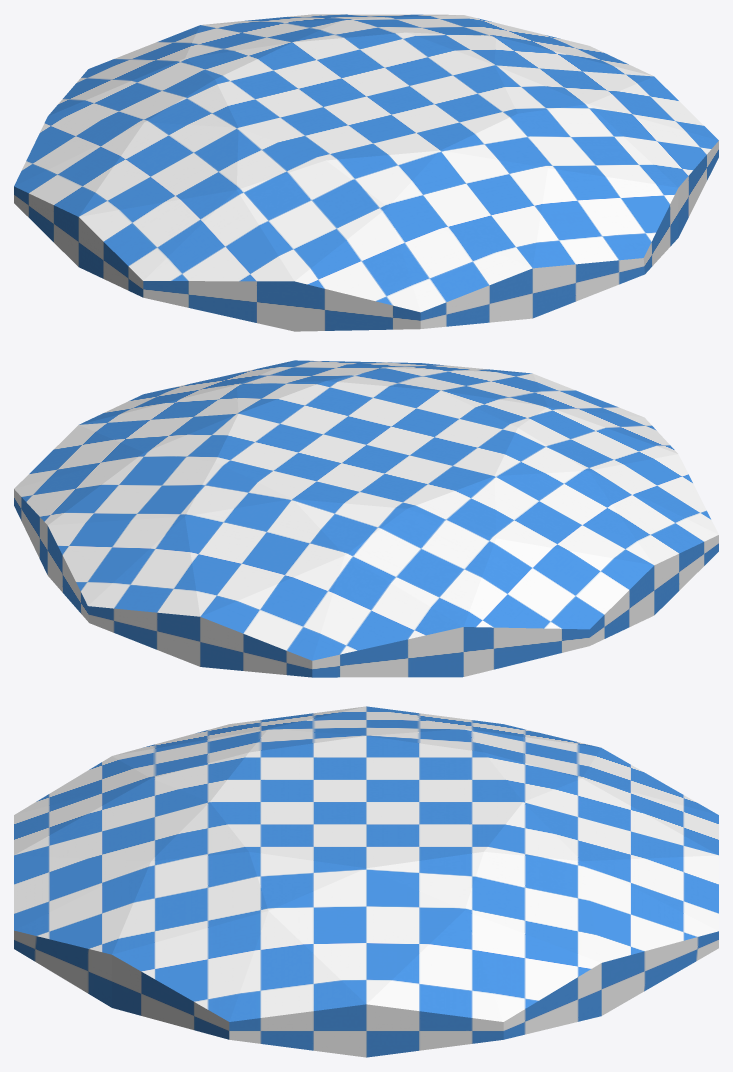
File: OctagonCutDouble.FBX
The picture shows the model from 3 angles, top to bottom: view 1: azimuth 30°, elevation 25°; view 2: azimuth 150°, elevation 25°; view 3: azimuth 270°, elevation 25°; orthographic projection. The views are drawn at different scales.
Parts seen in each view (by area): view 1: OctagonCutDouble; view 2: OctagonCutDouble; view 3: OctagonCutDouble.
Part boxes in pixels (x1=…): OctagonCutDouble: x1=14, y1=14, x2=718, y2=331; OctagonCutDouble: x1=14, y1=360, x2=718, y2=677; OctagonCutDouble: x1=14, y1=706, x2=718, y2=1057.
Bounding box in the file's own units: 1.14 × 0.2858 × 1.14.
